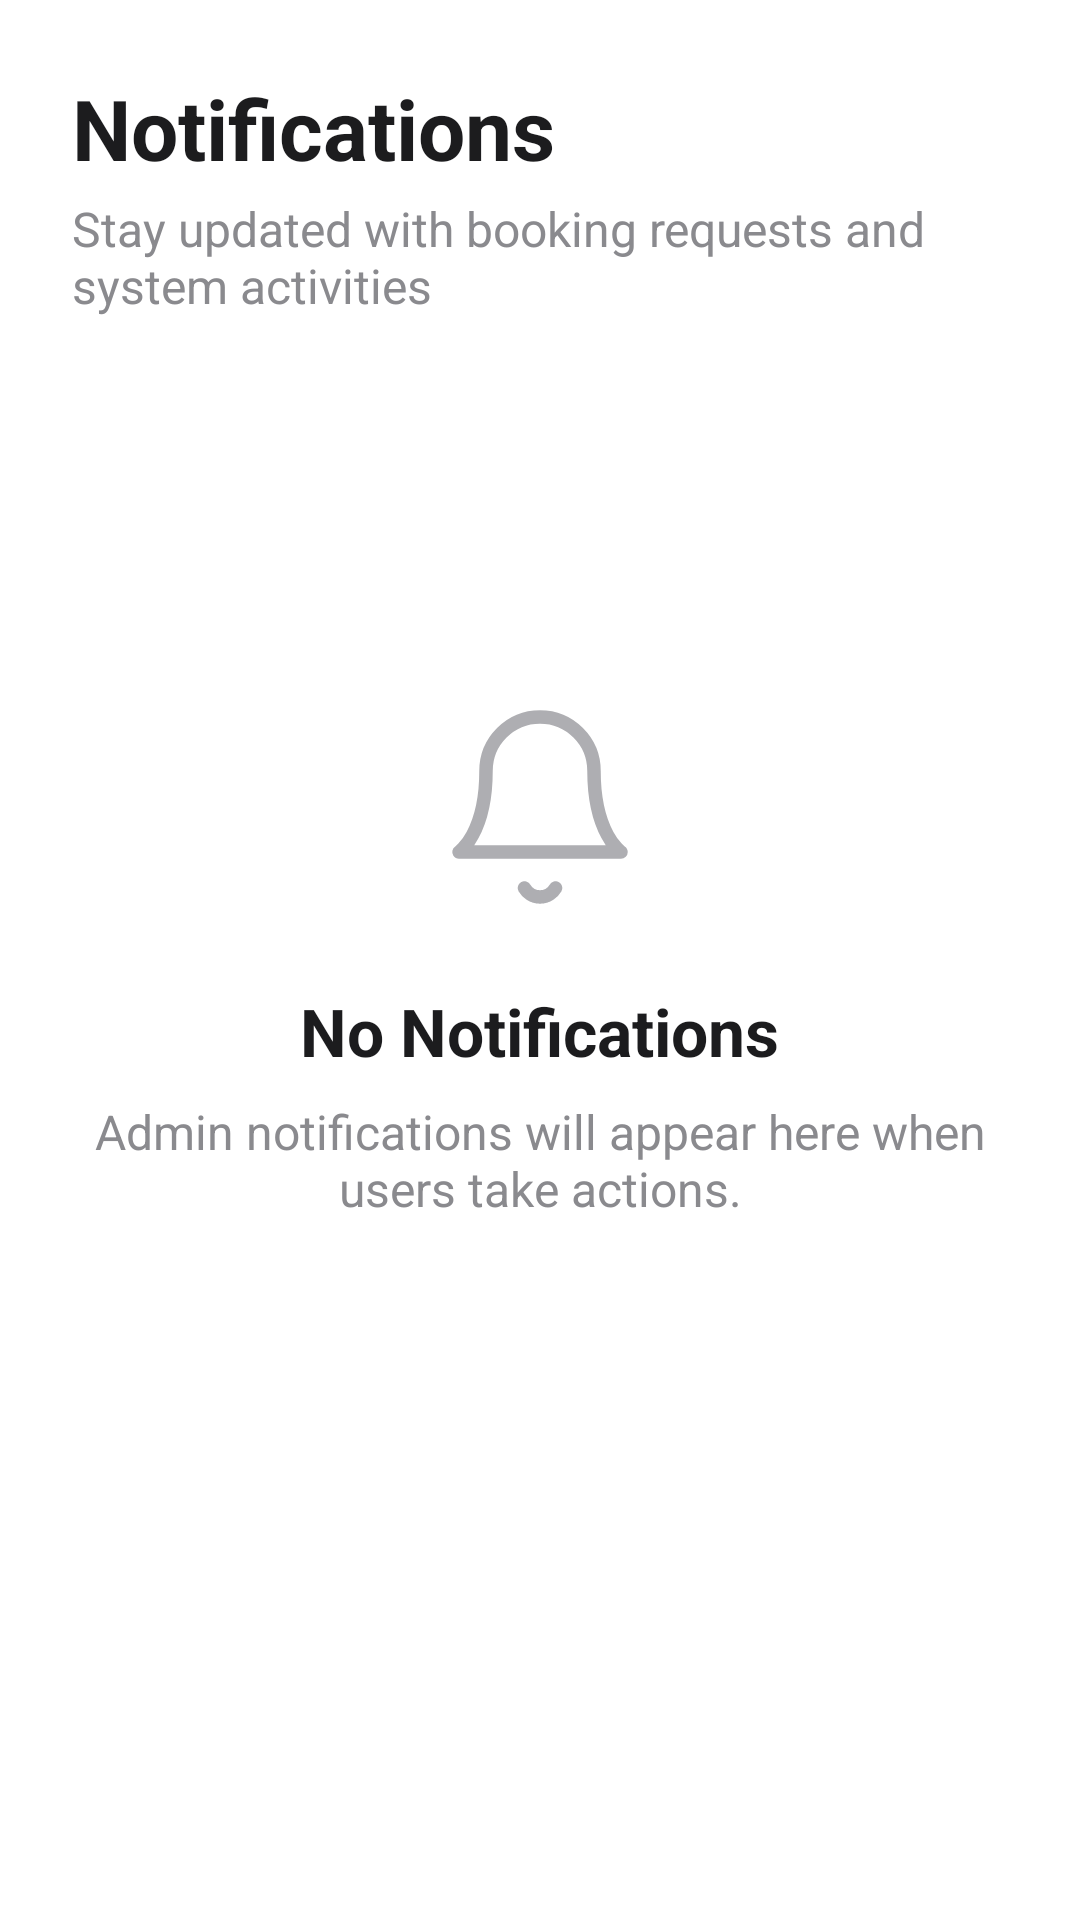

Where to tap for icons on this 1080 x 1920 app screen, as (x=x, y=y):
Notification bell icon: (x=540, y=807)
